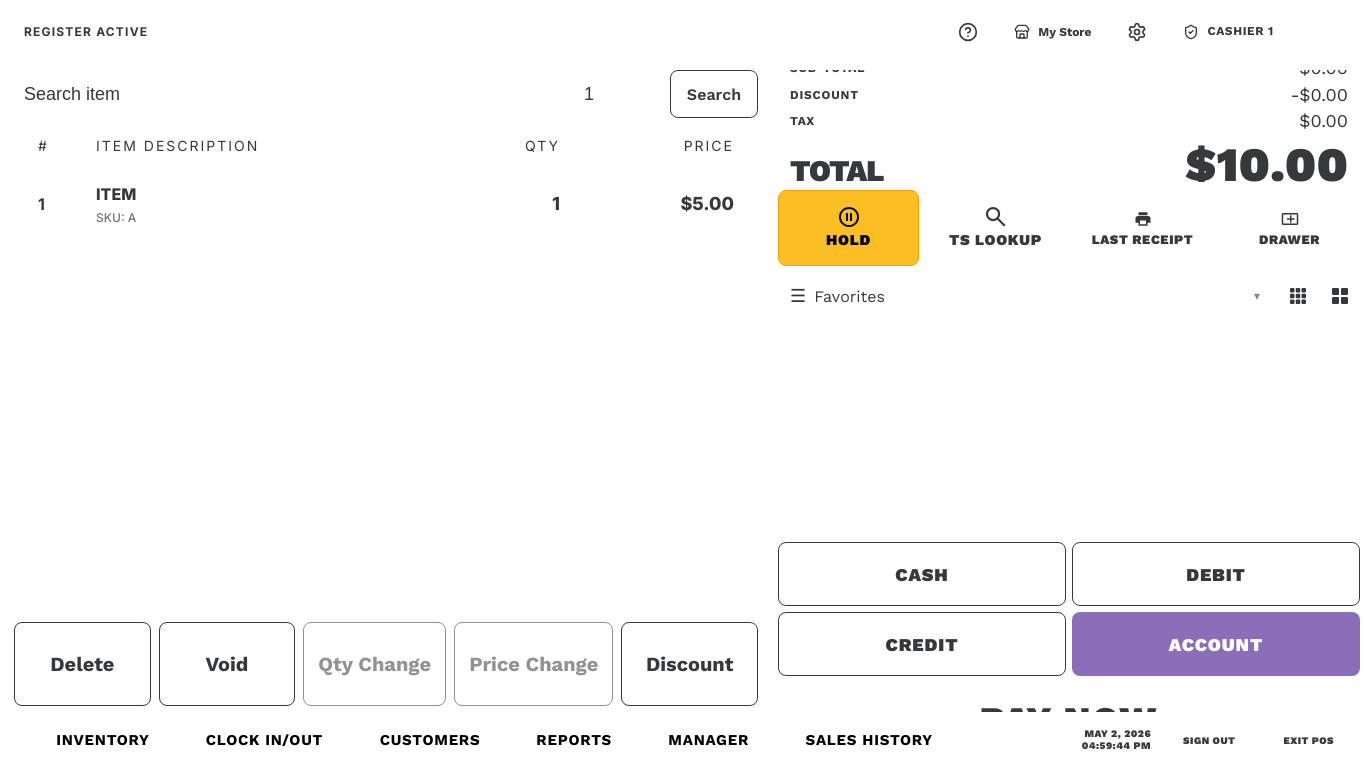
Test case: POSScreen › shows the empty state on the AccountPaymentModal when no services are configured
Click the button with test id "account-pay-btn": (1216, 644) [1072,612,1360,676]
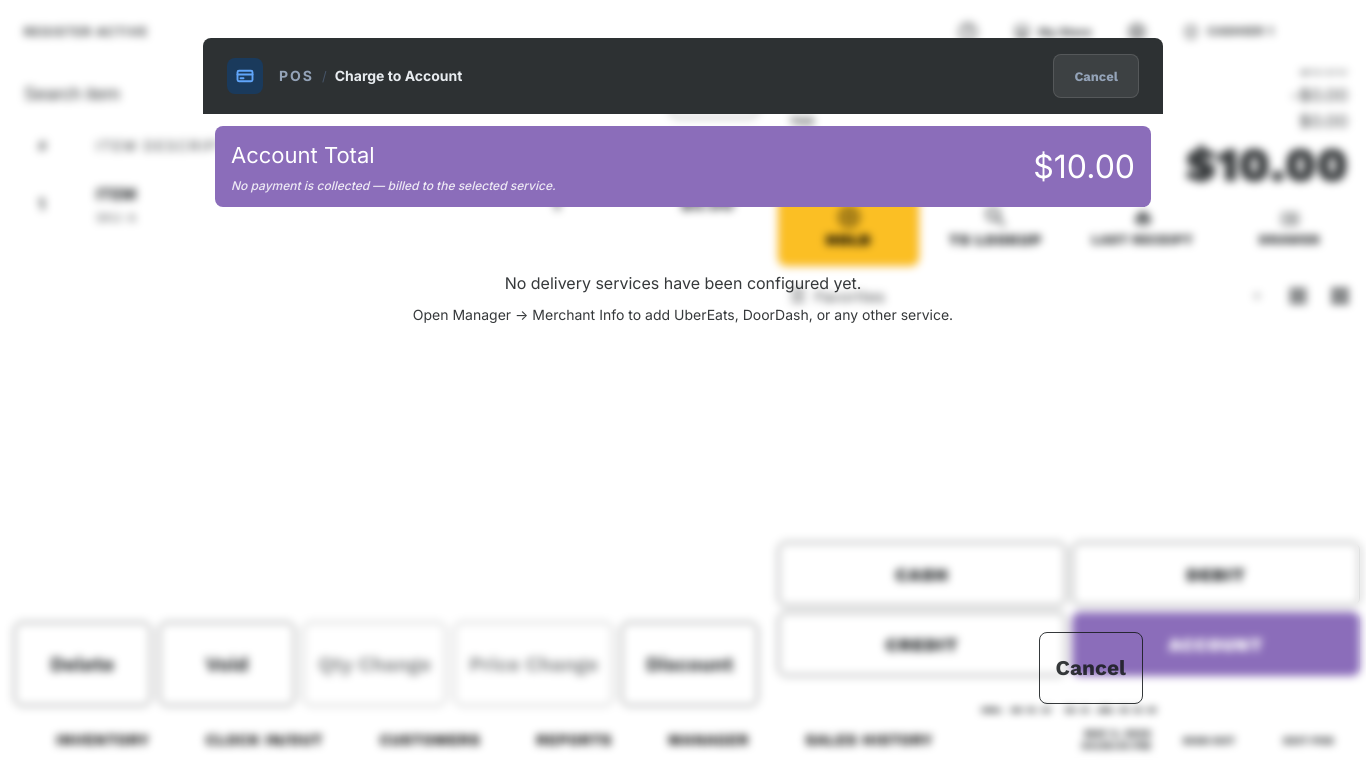
Now the element with test id "account-payment-modal-empty" is shown, box [413,273,953,323]
